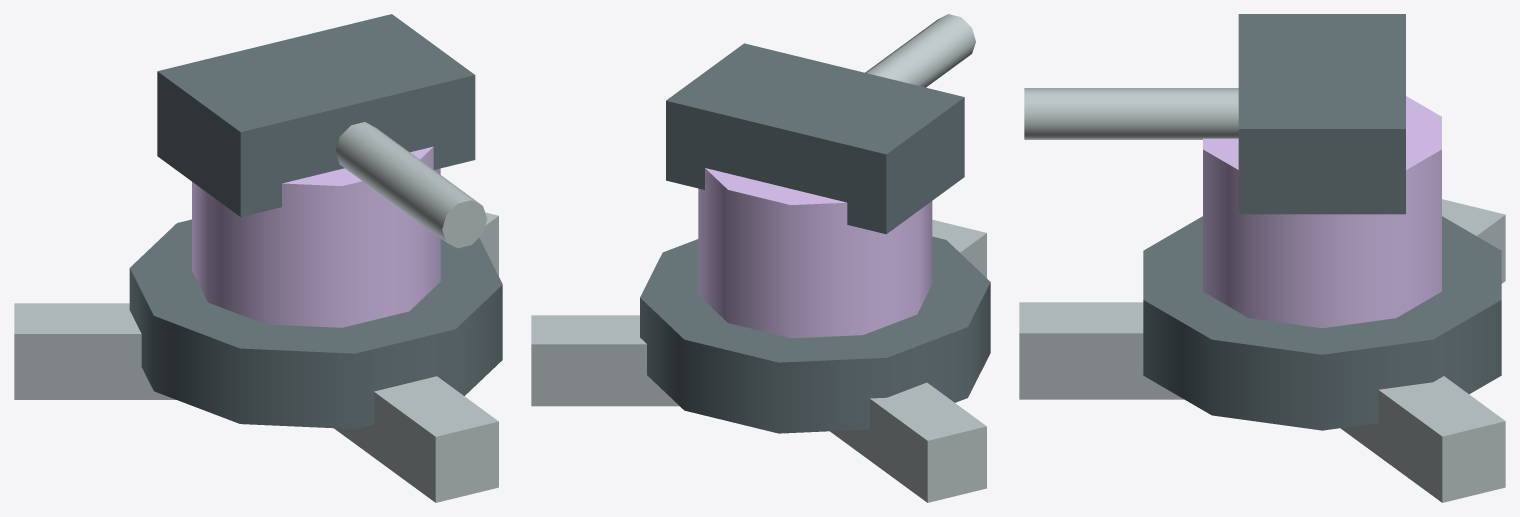
The model's file is minibot.glb.
3 views of the same model, side by side, from view 1: azimuth 30°, elevation 25°; view 2: azimuth 150°, elevation 25°; view 3: azimuth 270°, elevation 25° (orthographic). The views are drawn at different scales.
Visible parts, largest first — view 1: static:world-carbon, turret-head:world-carbon, static:world-minibot, static:world-steel (×3), turret-head:world-steel; view 2: turret-head:world-carbon, static:world-carbon, static:world-minibot, static:world-steel (×3), turret-head:world-steel; view 3: static:world-carbon, turret-head:world-carbon, static:world-minibot, static:world-steel (×3), turret-head:world-steel.
Part boxes in pixels (left/top/right/bottom): static:world-carbon: left=129, top=219, right=502, bottom=428; turret-head:world-carbon: left=157, top=14, right=475, bottom=216; static:world-minibot: left=192, top=146, right=440, bottom=327; static:world-steel (×3): left=14, top=212, right=498, bottom=502; turret-head:world-steel: left=335, top=122, right=487, bottom=248; turret-head:world-carbon: left=666, top=43, right=964, bottom=234; static:world-carbon: left=640, top=236, right=990, bottom=433; static:world-minibot: left=698, top=168, right=932, bottom=338; static:world-steel (×3): left=531, top=219, right=986, bottom=502; turret-head:world-steel: left=865, top=14, right=975, bottom=87; static:world-carbon: left=1143, top=216, right=1501, bottom=430; turret-head:world-carbon: left=1238, top=14, right=1405, bottom=214; static:world-minibot: left=1203, top=96, right=1441, bottom=328; static:world-steel (×3): left=1019, top=199, right=1505, bottom=502; turret-head:world-steel: left=1024, top=88, right=1238, bottom=139.
Size of the model in its own units: 0.5373 by 0.33 by 0.4653.
